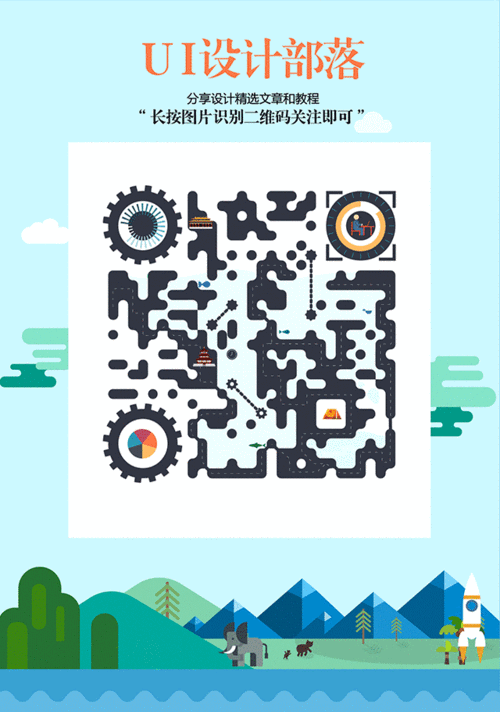QRCode: (94, 183, 415, 504)
